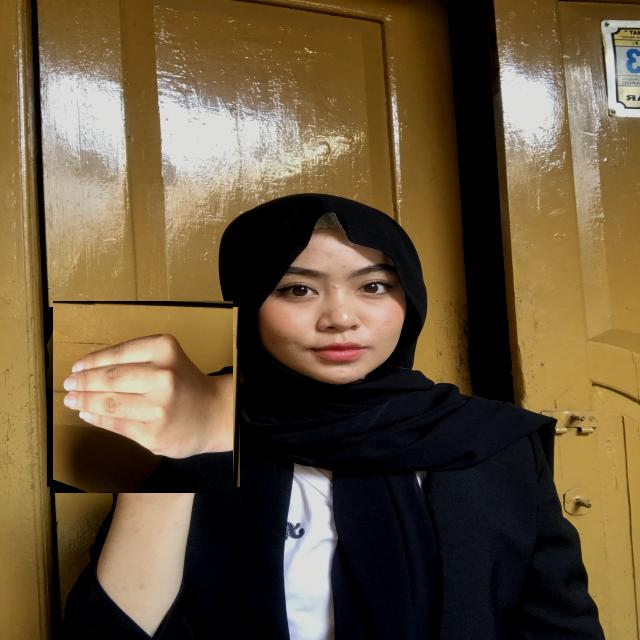kapan: (50, 304, 237, 490)
